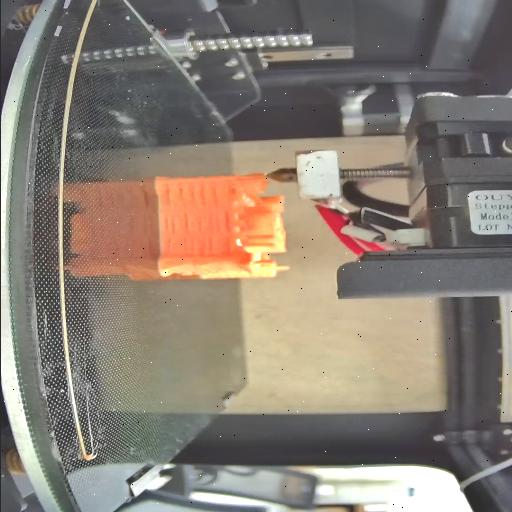cracks: (166, 184, 220, 210), (166, 235, 213, 257), (194, 210, 232, 236), (164, 213, 190, 235), (222, 238, 232, 256)
